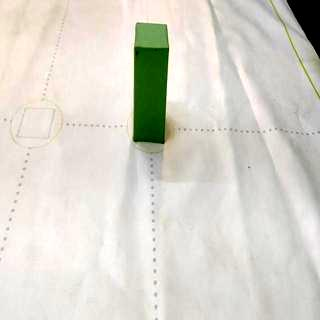greenbox: (132, 20, 170, 144)
